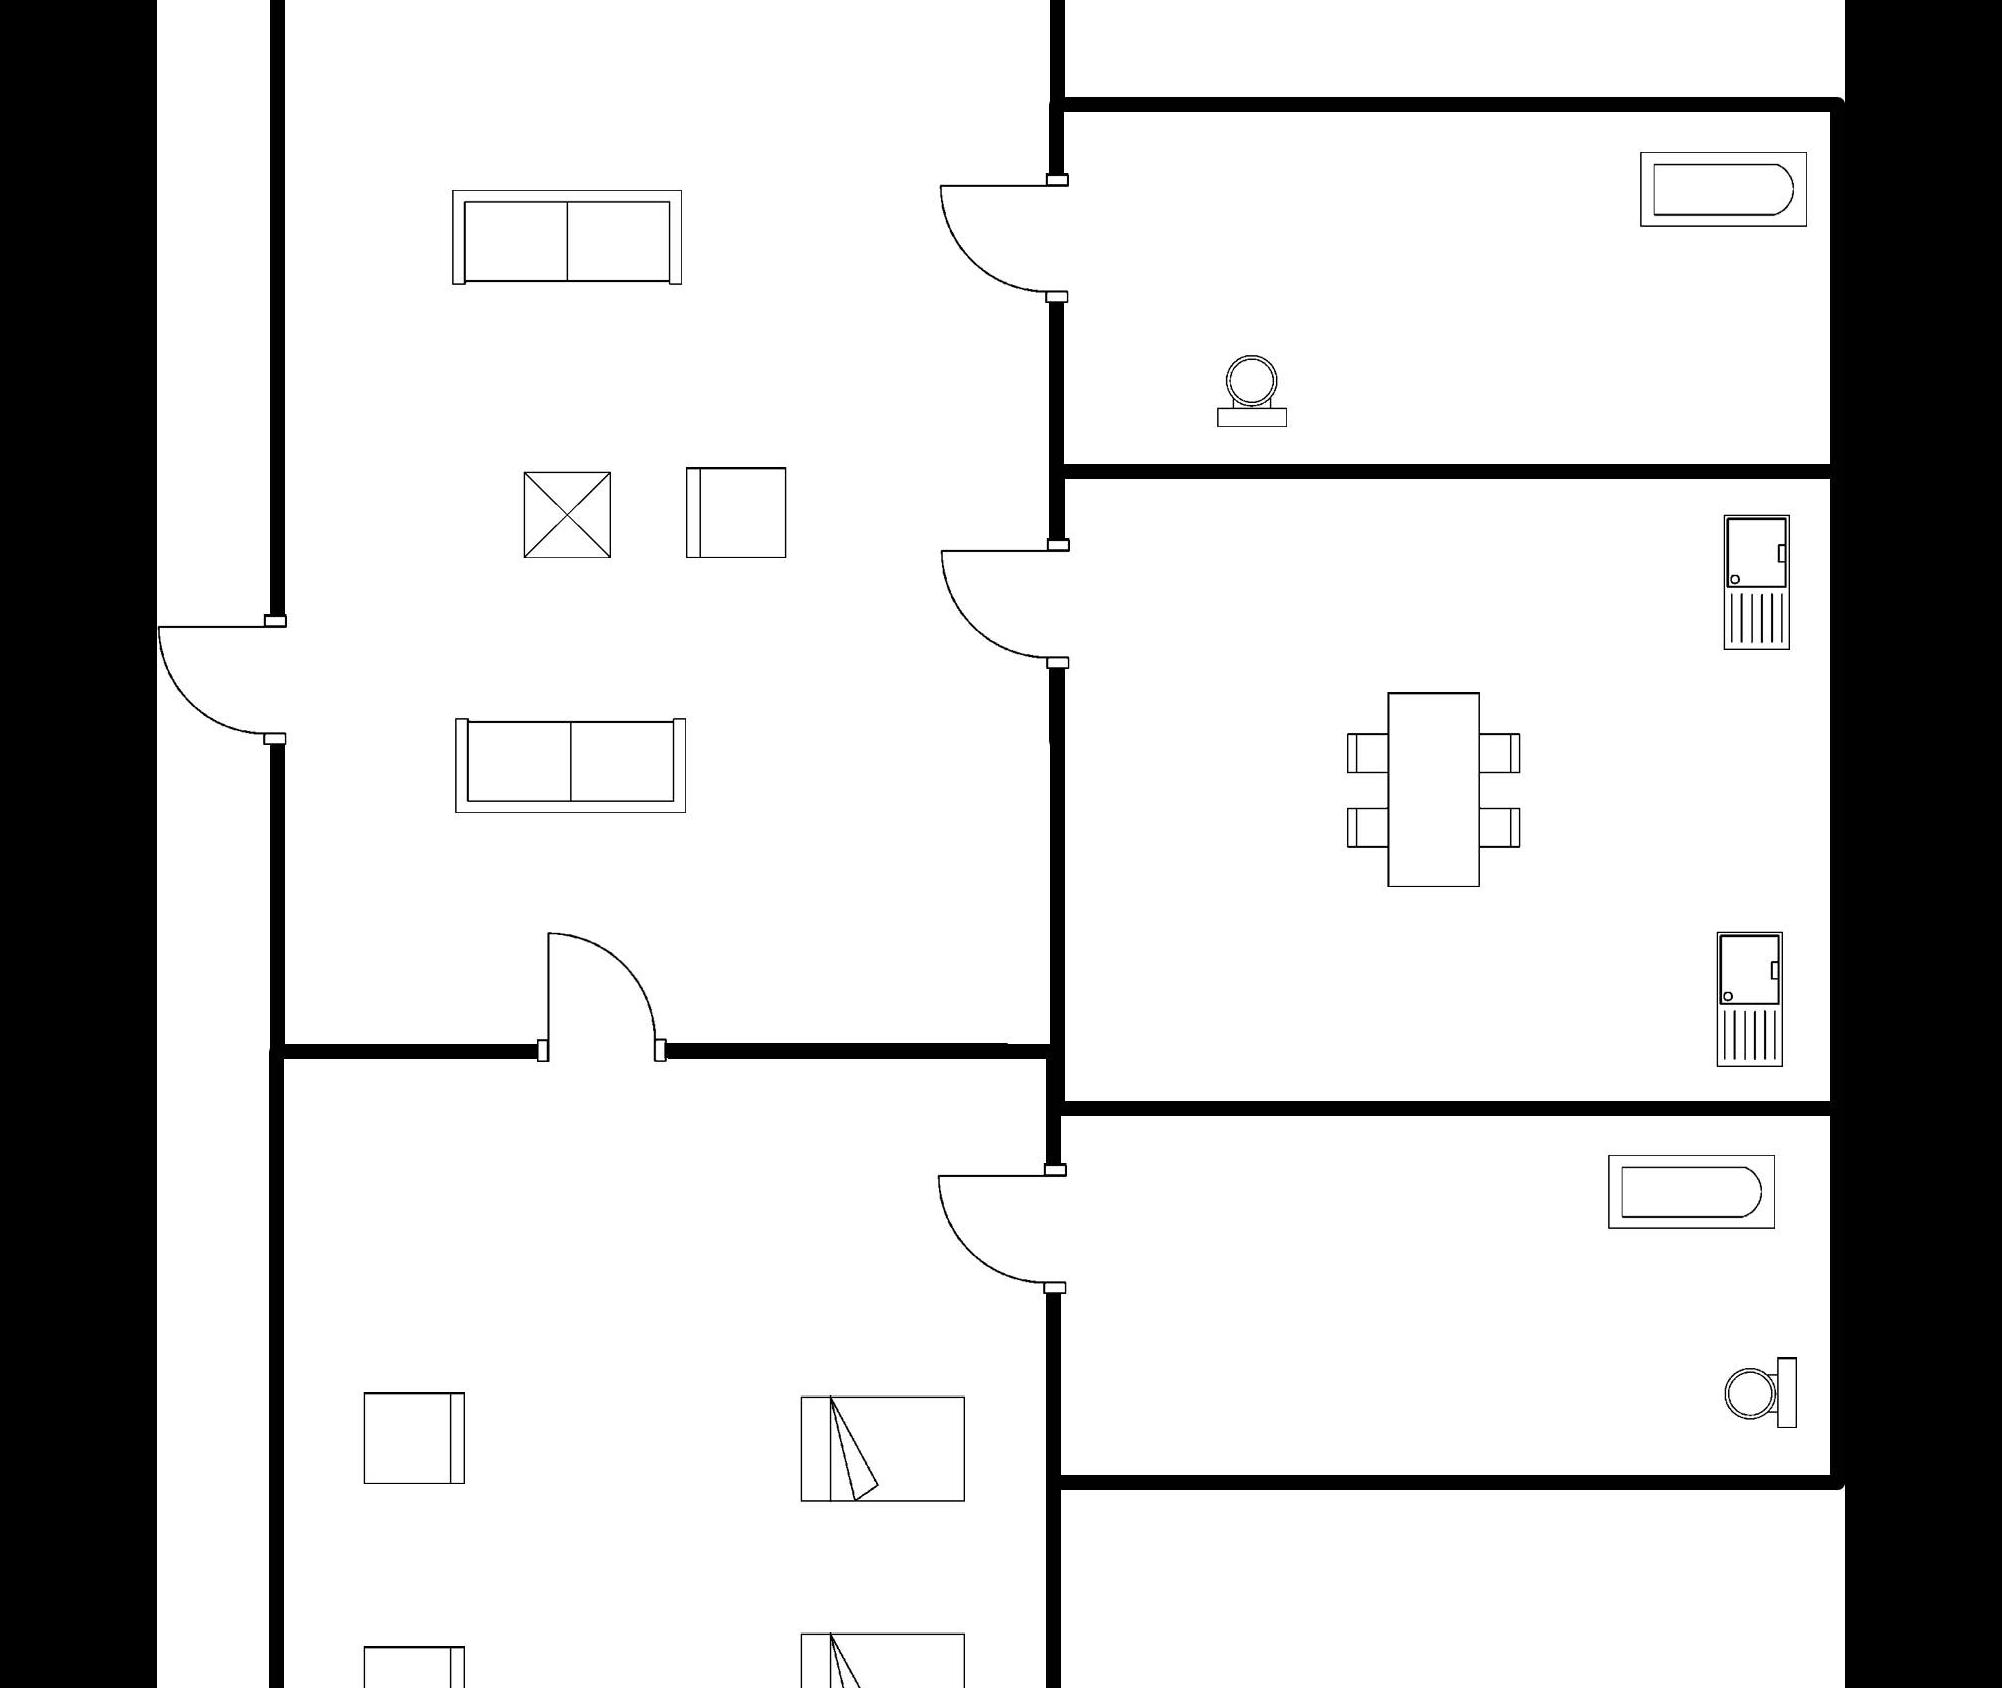bed: (787, 1383, 979, 1510), (782, 1619, 974, 1688)
dining_table: (1329, 665, 1533, 899)
sink: (1701, 918, 1793, 1077), (1716, 497, 1804, 661)
sofa: (444, 705, 706, 827), (439, 176, 700, 295)
toilet: (1205, 338, 1306, 439), (1711, 1340, 1808, 1438)
tub: (1629, 136, 1823, 234), (1595, 1139, 1788, 1238)
